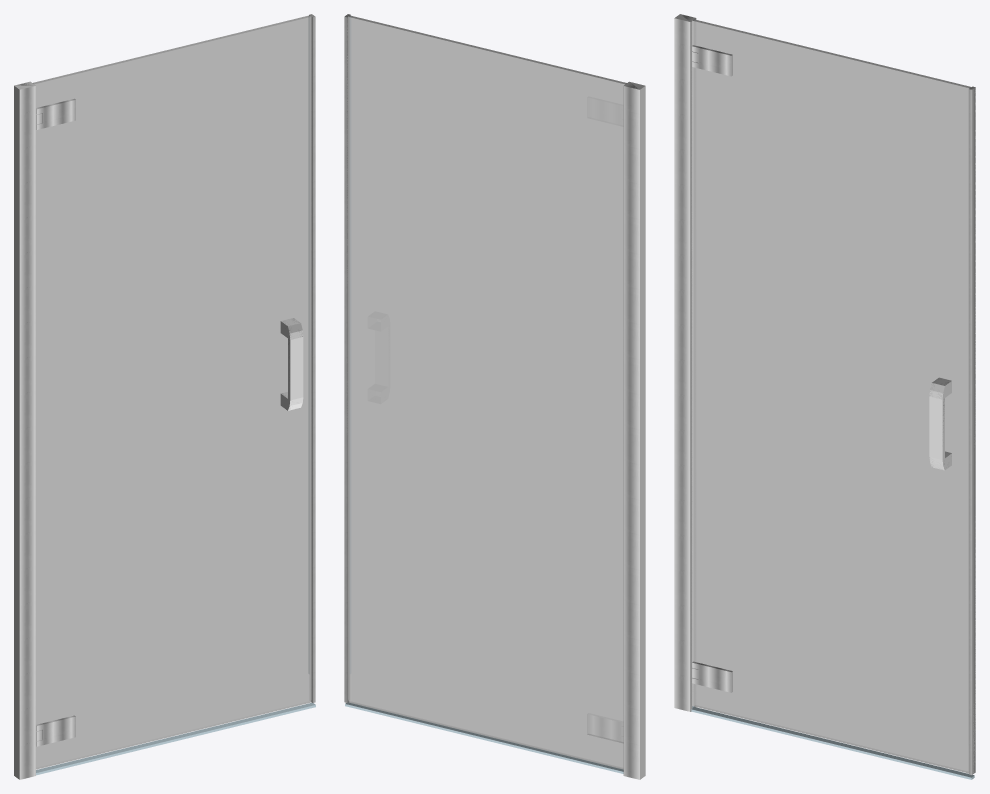
The picture shows the model from 3 angles, left to right: view 1: azimuth 30°, elevation 25°; view 2: azimuth 150°, elevation 25°; view 3: azimuth 330°, elevation 25°; orthographic projection.
Parts seen in each view (by area): view 1: Node8, Node2, Node6; view 2: Node8, Node2, Node6; view 3: Node8, Node2, Node9, Node6.
Part boxes in pixels (<box>): Node8: <box>32,15,311,769</box>; Node2: <box>14,14,315,779</box>; Node6: <box>36,16,315,775</box>; Node8: <box>348,15,627,769</box>; Node2: <box>344,14,645,779</box>; Node6: <box>345,16,623,773</box>; Node8: <box>692,19,971,773</box>; Node2: <box>674,14,975,774</box>; Node9: <box>692,20,694,705</box>; Node6: <box>691,706,974,779</box>.
Bounding box in the file's own units: 35.43 × 78.74 × 2.75.
4 materials, 2 textured.
